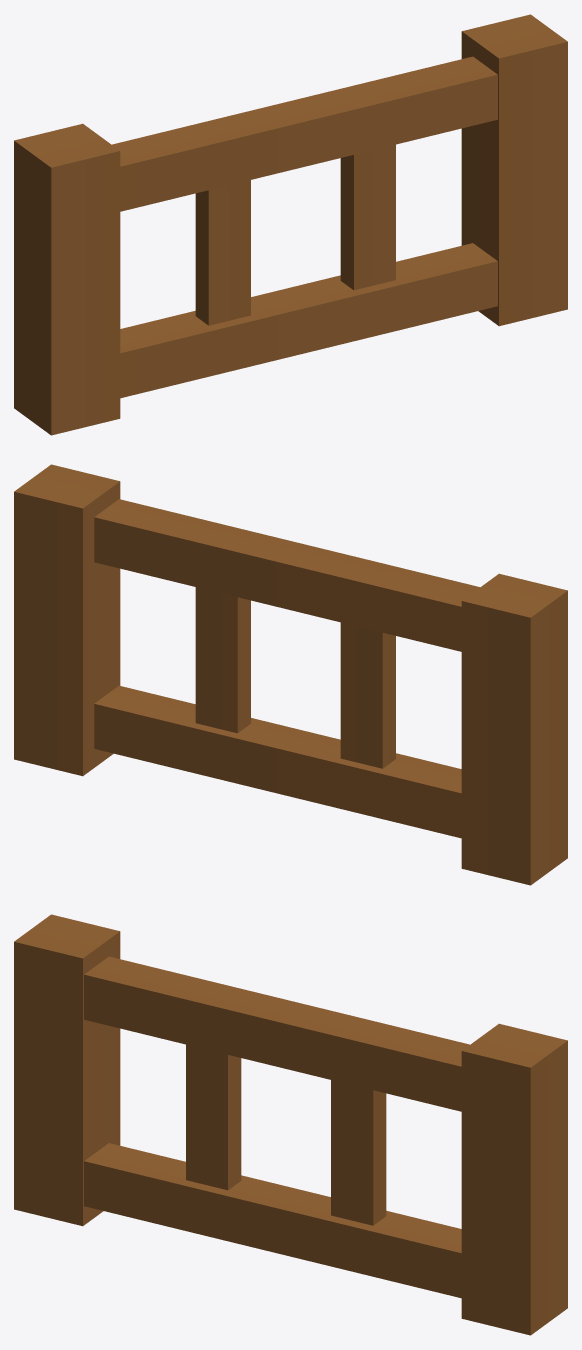
File: Railing_Wood_01.fbx
The picture shows the model from 3 angles, top to bottom: view 1: azimuth 30°, elevation 25°; view 2: azimuth 150°, elevation 25°; view 3: azimuth 330°, elevation 25°; orthographic projection.
Visible parts, largest first — view 1: Railing_Wood_01.001, Railing_Wood_01.002, Railing_Wood_01, Railing_Wood_01.003; view 2: Railing_Wood_01.001, Railing_Wood_01.002, Railing_Wood_01, Railing_Wood_01.003; view 3: Railing_Wood_01.001, Railing_Wood_01.002, Railing_Wood_01, Railing_Wood_01.003.
Part boxes in pixels (x1,y1,x2,y2): Railing_Wood_01.001: (14,14,567,435); Railing_Wood_01.002: (112,56,497,211); Railing_Wood_01: (120,243,497,398); Railing_Wood_01.003: (195,144,395,325); Railing_Wood_01.001: (14,464,567,885); Railing_Wood_01.002: (94,499,479,651); Railing_Wood_01: (94,685,461,838); Railing_Wood_01.003: (195,587,395,768); Railing_Wood_01.001: (14,914,567,1335); Railing_Wood_01.002: (84,956,469,1111); Railing_Wood_01: (84,1143,461,1298); Railing_Wood_01.003: (186,1044,386,1225).
Bounding box in the file's own units: 2.4 × 1.19 × 0.3.
